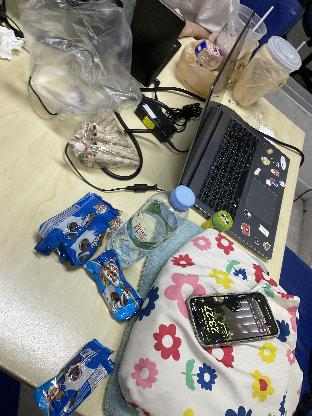Plastic Bag: (18, 0, 144, 118)
Plastic Bottle: (112, 186, 194, 268)
Plastic Packaging: (34, 190, 122, 268), (35, 338, 116, 416), (85, 246, 145, 320)
